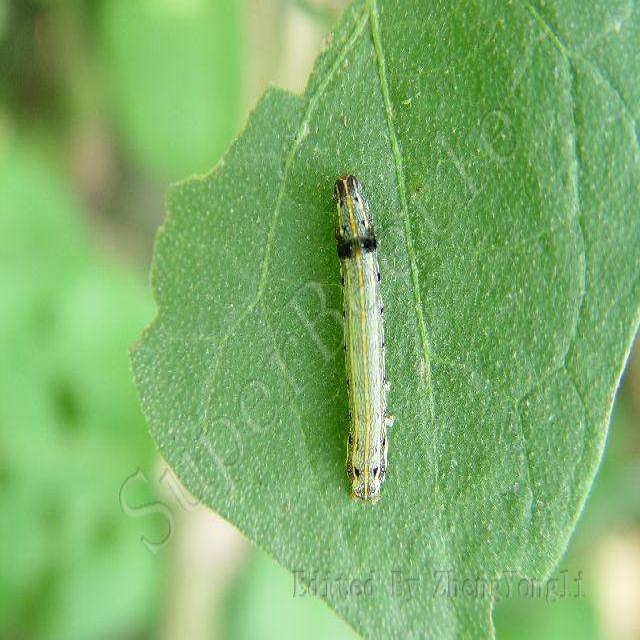BeetArmyWorm-Larva-: (323, 154, 413, 518)
